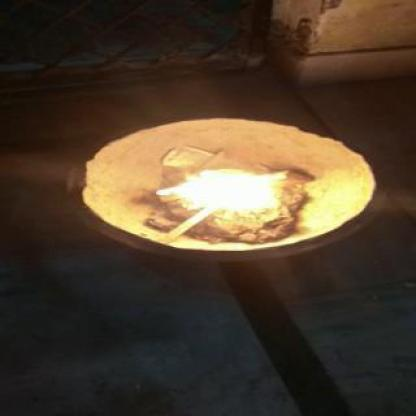fire: (152, 162, 306, 220)
